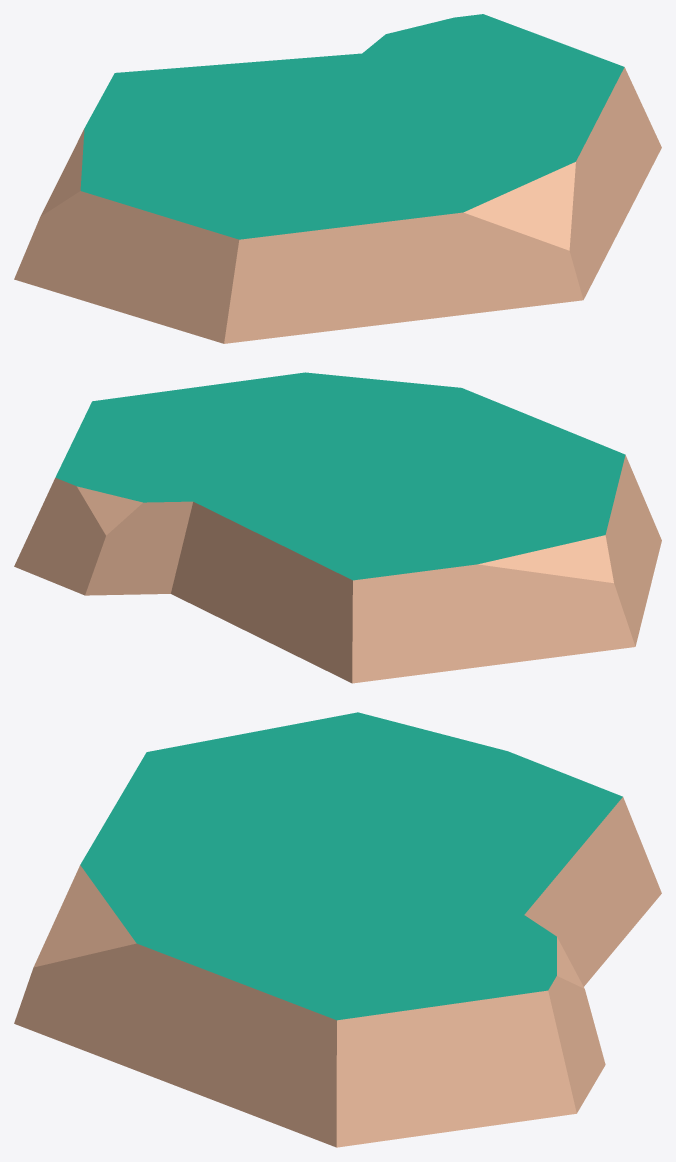
File: rock_smallFlatC.glb
The picture shows the model from 3 angles, top to bottom: view 1: azimuth 30°, elevation 25°; view 2: azimuth 150°, elevation 25°; view 3: azimuth 270°, elevation 25°; orthographic projection. The views are drawn at different scales.
Parts seen in each view (by area): view 1: rock_smallFlatC; view 2: rock_smallFlatC; view 3: rock_smallFlatC.
Boxes of the visible parts, box(x1,y1,x2,y2) form: rock_smallFlatC: box(14, 14, 661, 343); rock_smallFlatC: box(14, 372, 661, 683); rock_smallFlatC: box(14, 712, 661, 1147).
Size of the model in its own units: 0.5645 by 0.0779 by 0.4324.
